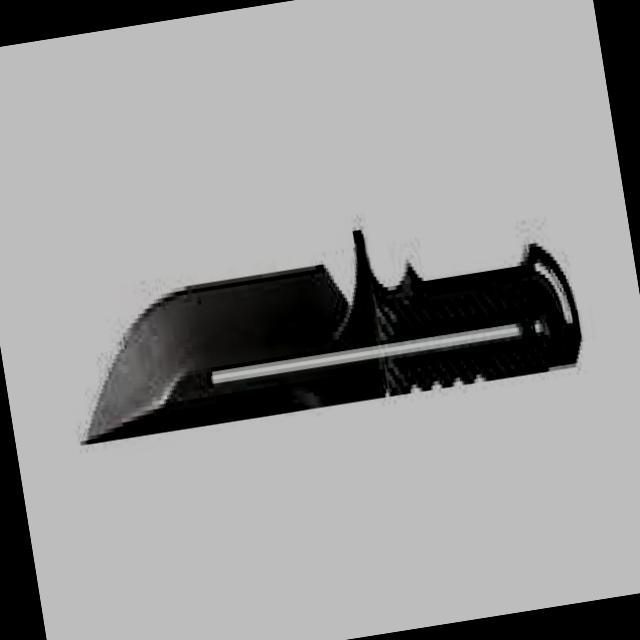Knife: (14, 102, 622, 490)
